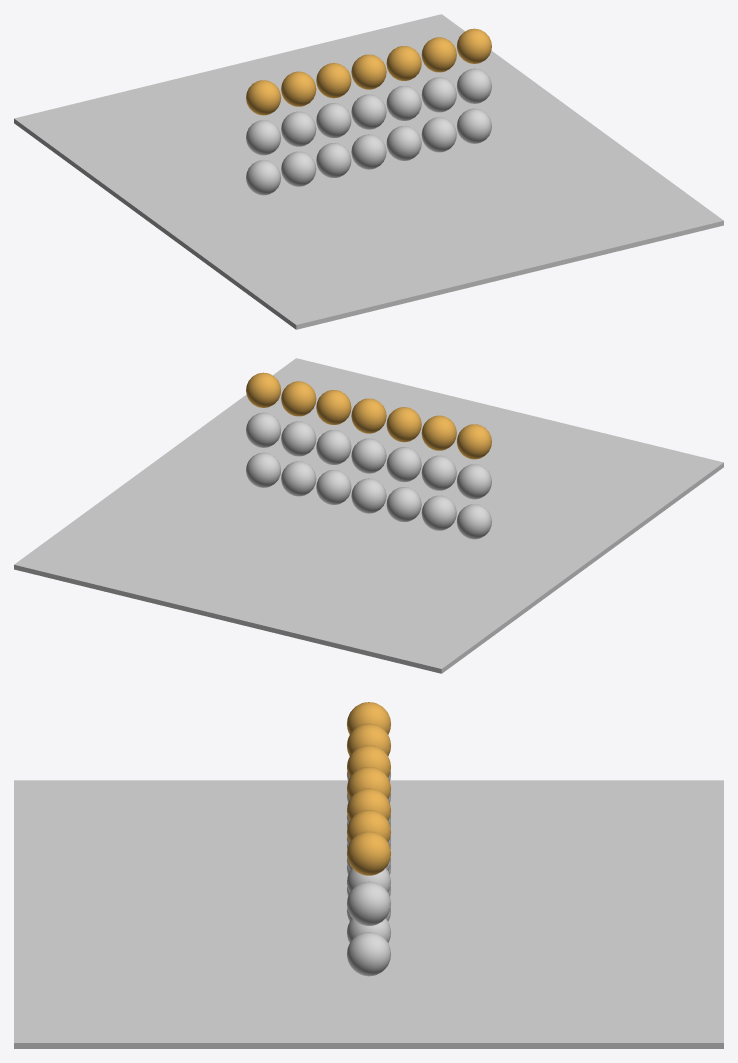
The model's file is pbr.gltf.
The picture shows the model from 3 angles, top to bottom: view 1: azimuth 30°, elevation 25°; view 2: azimuth 150°, elevation 25°; view 3: azimuth 270°, elevation 25°; orthographic projection. The views are drawn at different scales.
Parts seen in each view (by area): view 1: Exhibit; view 2: Exhibit; view 3: Exhibit.
Boxes of the visible parts, box(x1,y1,x2,y2) form: Exhibit: box(14, 14, 723, 329); Exhibit: box(14, 358, 723, 673); Exhibit: box(14, 702, 723, 1048).
Size of the model in its own units: 14 by 3.7 by 16.
